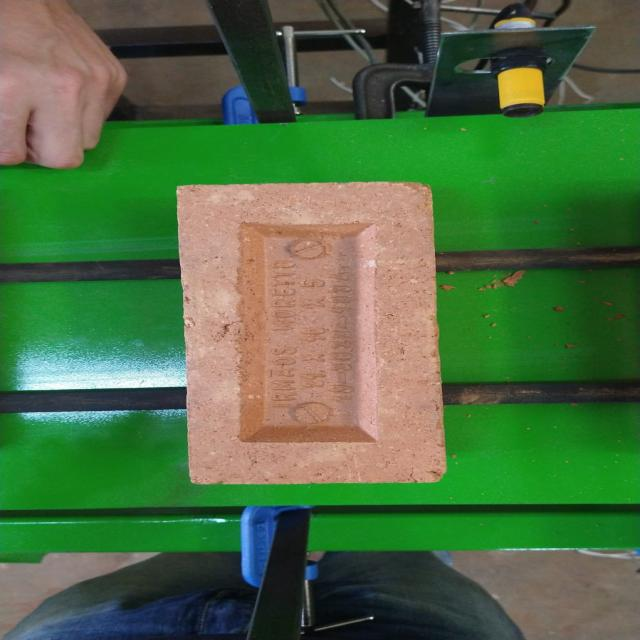bricks: (176, 182, 443, 483)
